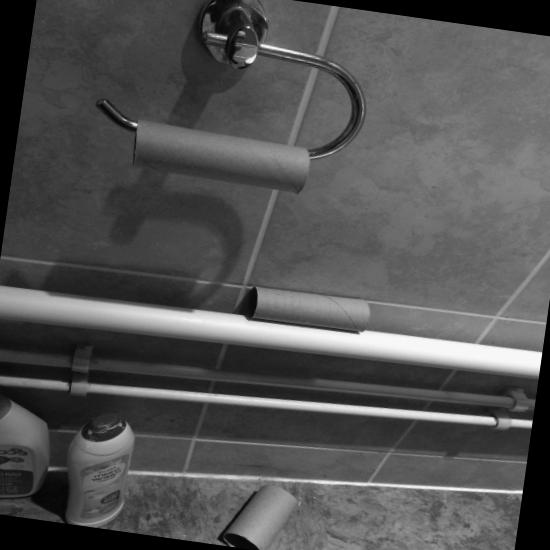Other plastic container: (65, 412, 134, 527), (0, 393, 50, 498)
Plastic bottle cap: (0, 394, 38, 419)
Toilet tube: (133, 119, 310, 194), (248, 286, 369, 332), (223, 484, 298, 550)
